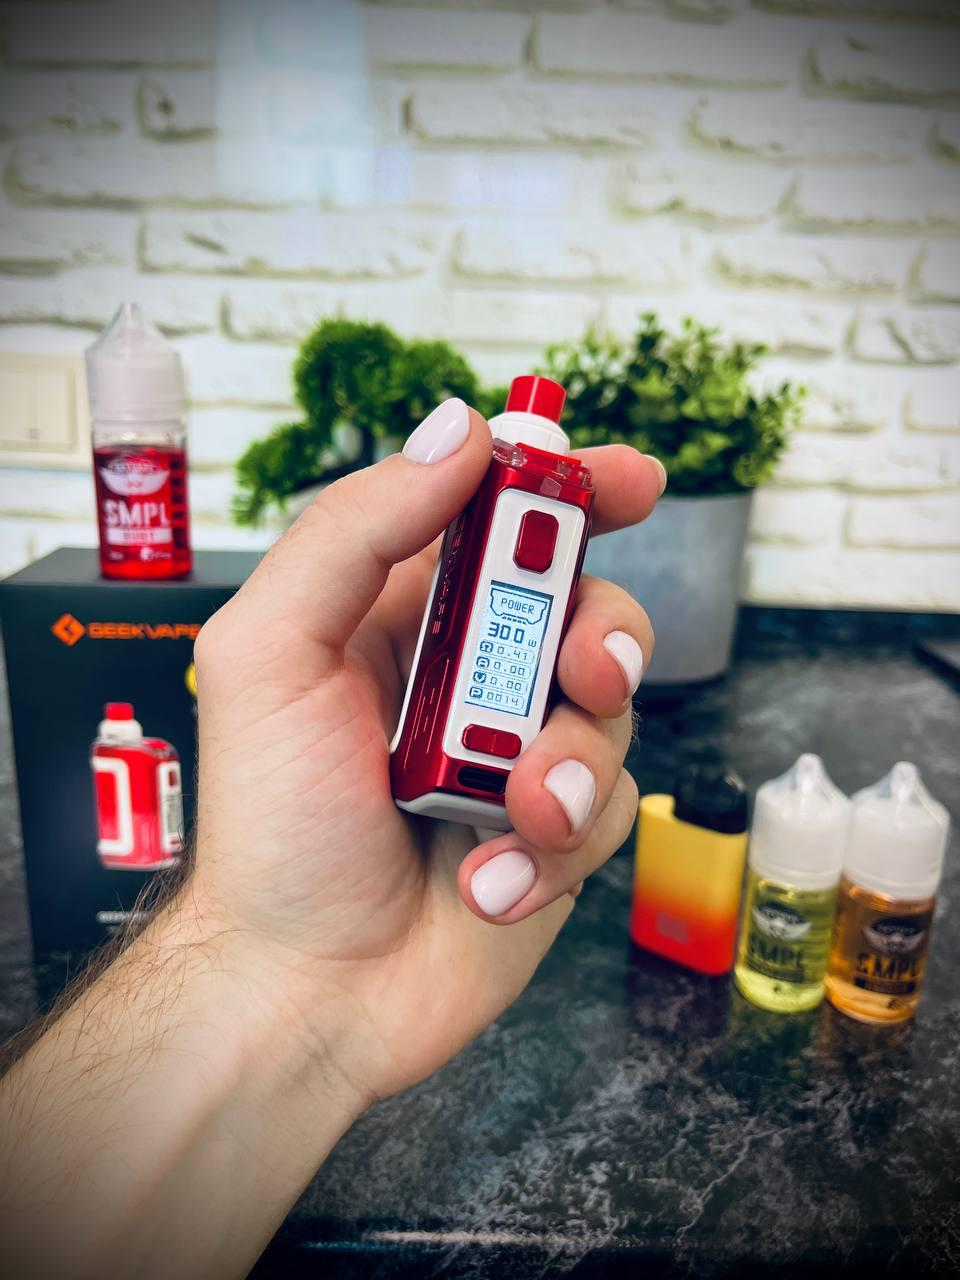Vape: (391, 375, 592, 827)
